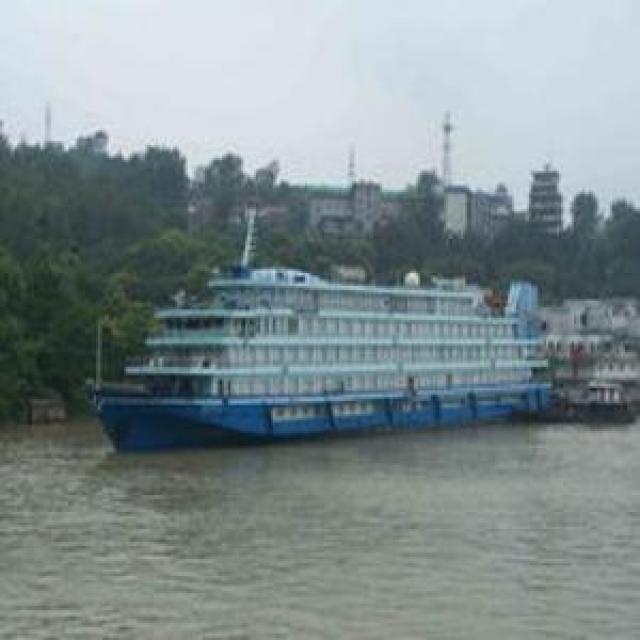passenger ship: (78, 236, 572, 452)
